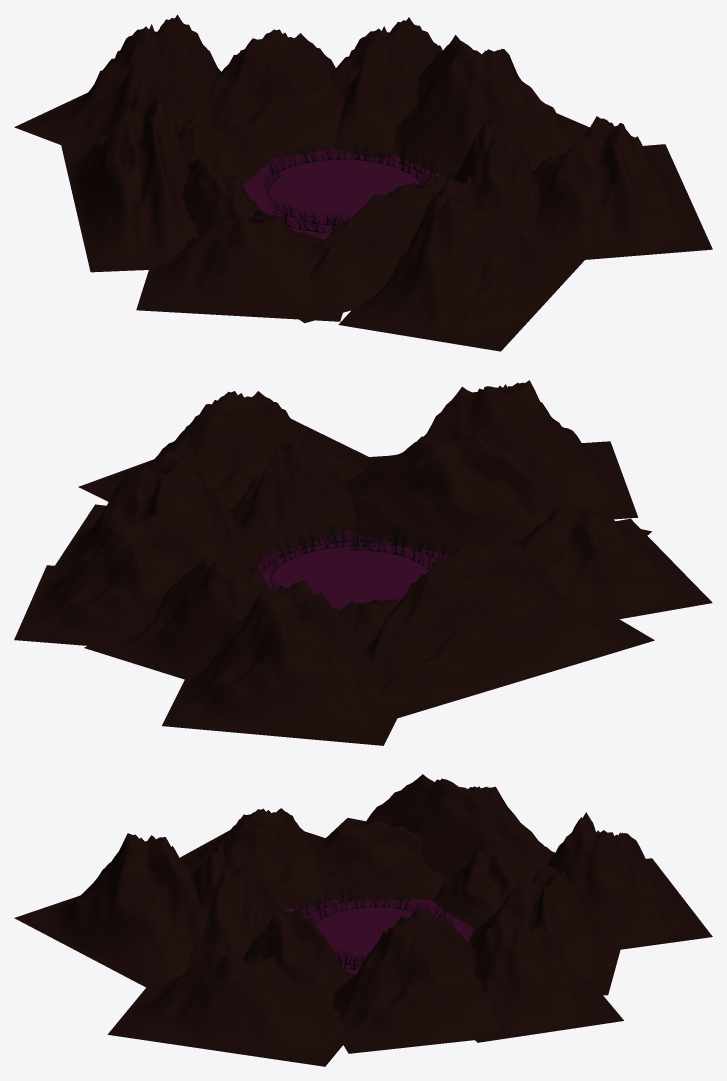
Rendered from Genjutsu.glb.
3 renders of one model, top to bottom at view 1: azimuth 30°, elevation 25°; view 2: azimuth 150°, elevation 25°; view 3: azimuth 270°, elevation 25°, orthographic. The views are drawn at different scales.
Parts seen in each view (by area): view 1: Mountains, Water, Trees.002, Trees.001, Trees; view 2: Mountains, Water, Trees.001, Trees.002, Trees; view 3: Mountains, Water, Trees, Trees.001.
Boxes of the visible parts, <box> form: Mountains: <box>14,14,712,351</box>; Water: <box>243,148,440,239</box>; Trees.002: <box>268,143,427,182</box>; Trees.001: <box>269,143,437,233</box>; Trees: <box>263,161,349,225</box>; Mountains: <box>14,380,712,745</box>; Water: <box>256,531,451,612</box>; Trees.001: <box>253,523,452,573</box>; Trees.002: <box>269,528,375,612</box>; Trees: <box>348,532,435,602</box>; Mountains: <box>14,774,712,1066</box>; Water: <box>285,899,473,974</box>; Trees: <box>310,894,445,923</box>; Trees.001: <box>297,883,365,970</box>.
Size of the model in its own units: 670 by 119 by 788.
3 materials, 1 textured.
